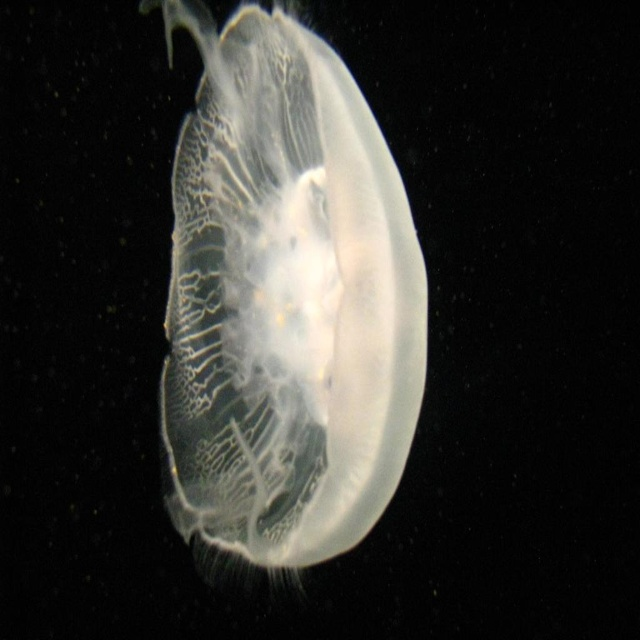Jellyfish: (138, 0, 427, 610)
